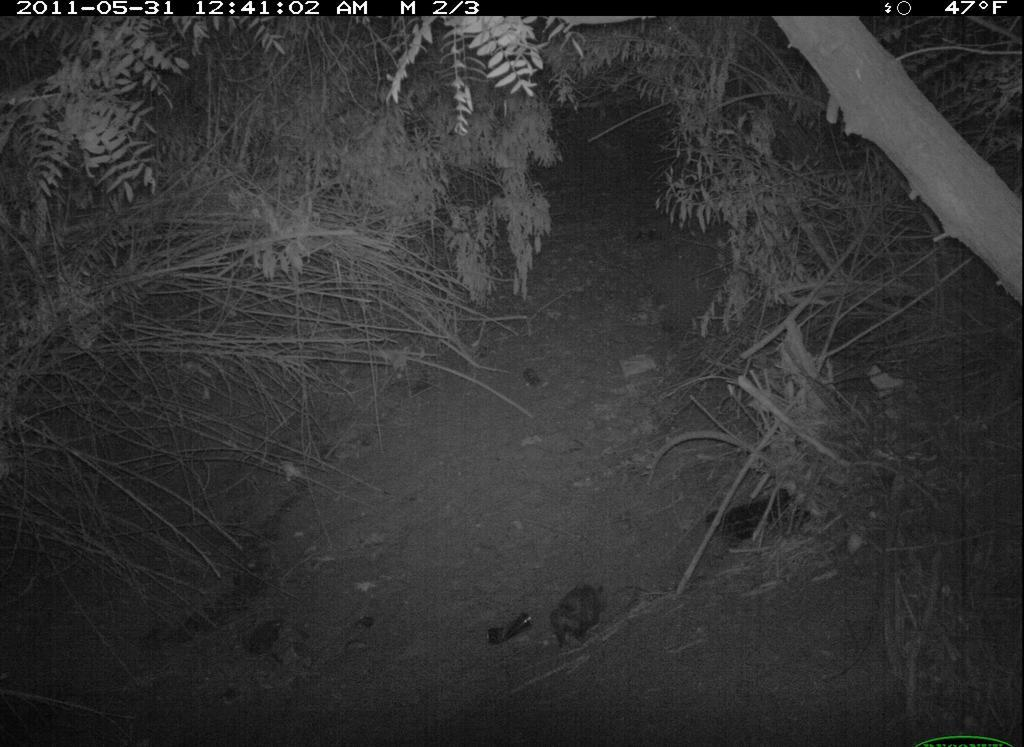opossum: (536, 566, 626, 655)
